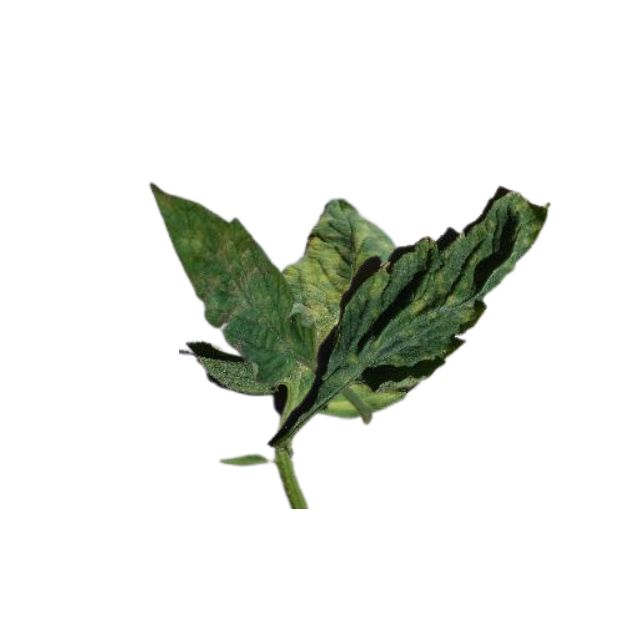Leaf_Mold: (151, 183, 278, 355), (398, 191, 549, 332), (277, 219, 392, 358)
